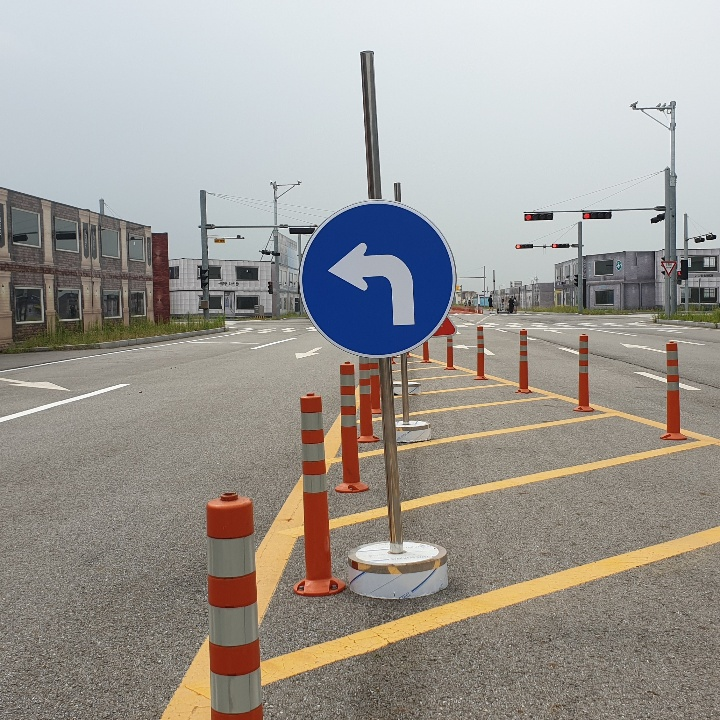left: (320, 239, 424, 334)
